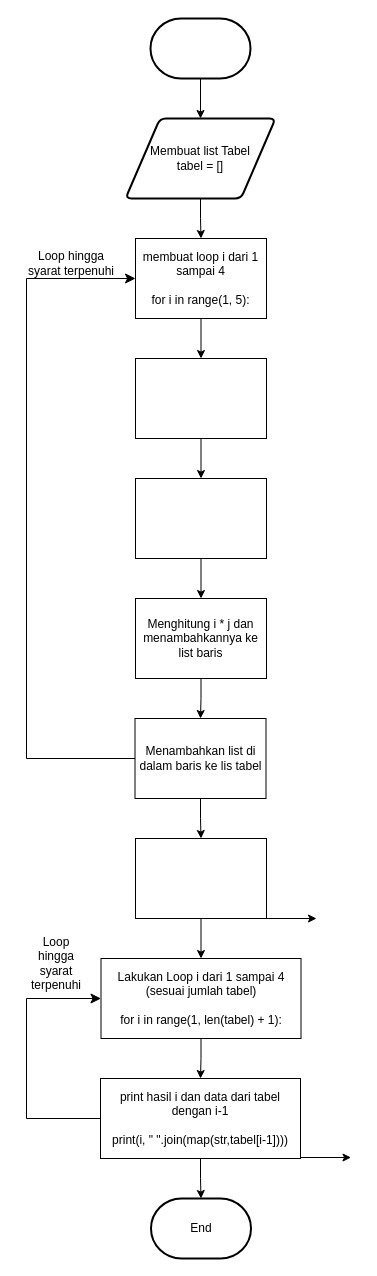
This 377x1276 diagram has some shape labels left out. The shapes that lost their labels are listed below. From the top down, each one's centre as x and y in pixels, then its label:
[200,48]: Start
[200,398]: membuat variable list baris baris = []
[200,518]: membuat loop dari 1 sampai 5 for j in range(1, 6):
[200,878]: print "*" dan angka 1 hingga 5
